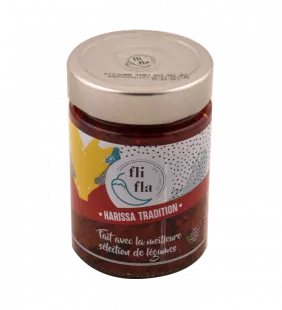FLIFLA: (60, 20, 221, 283)
